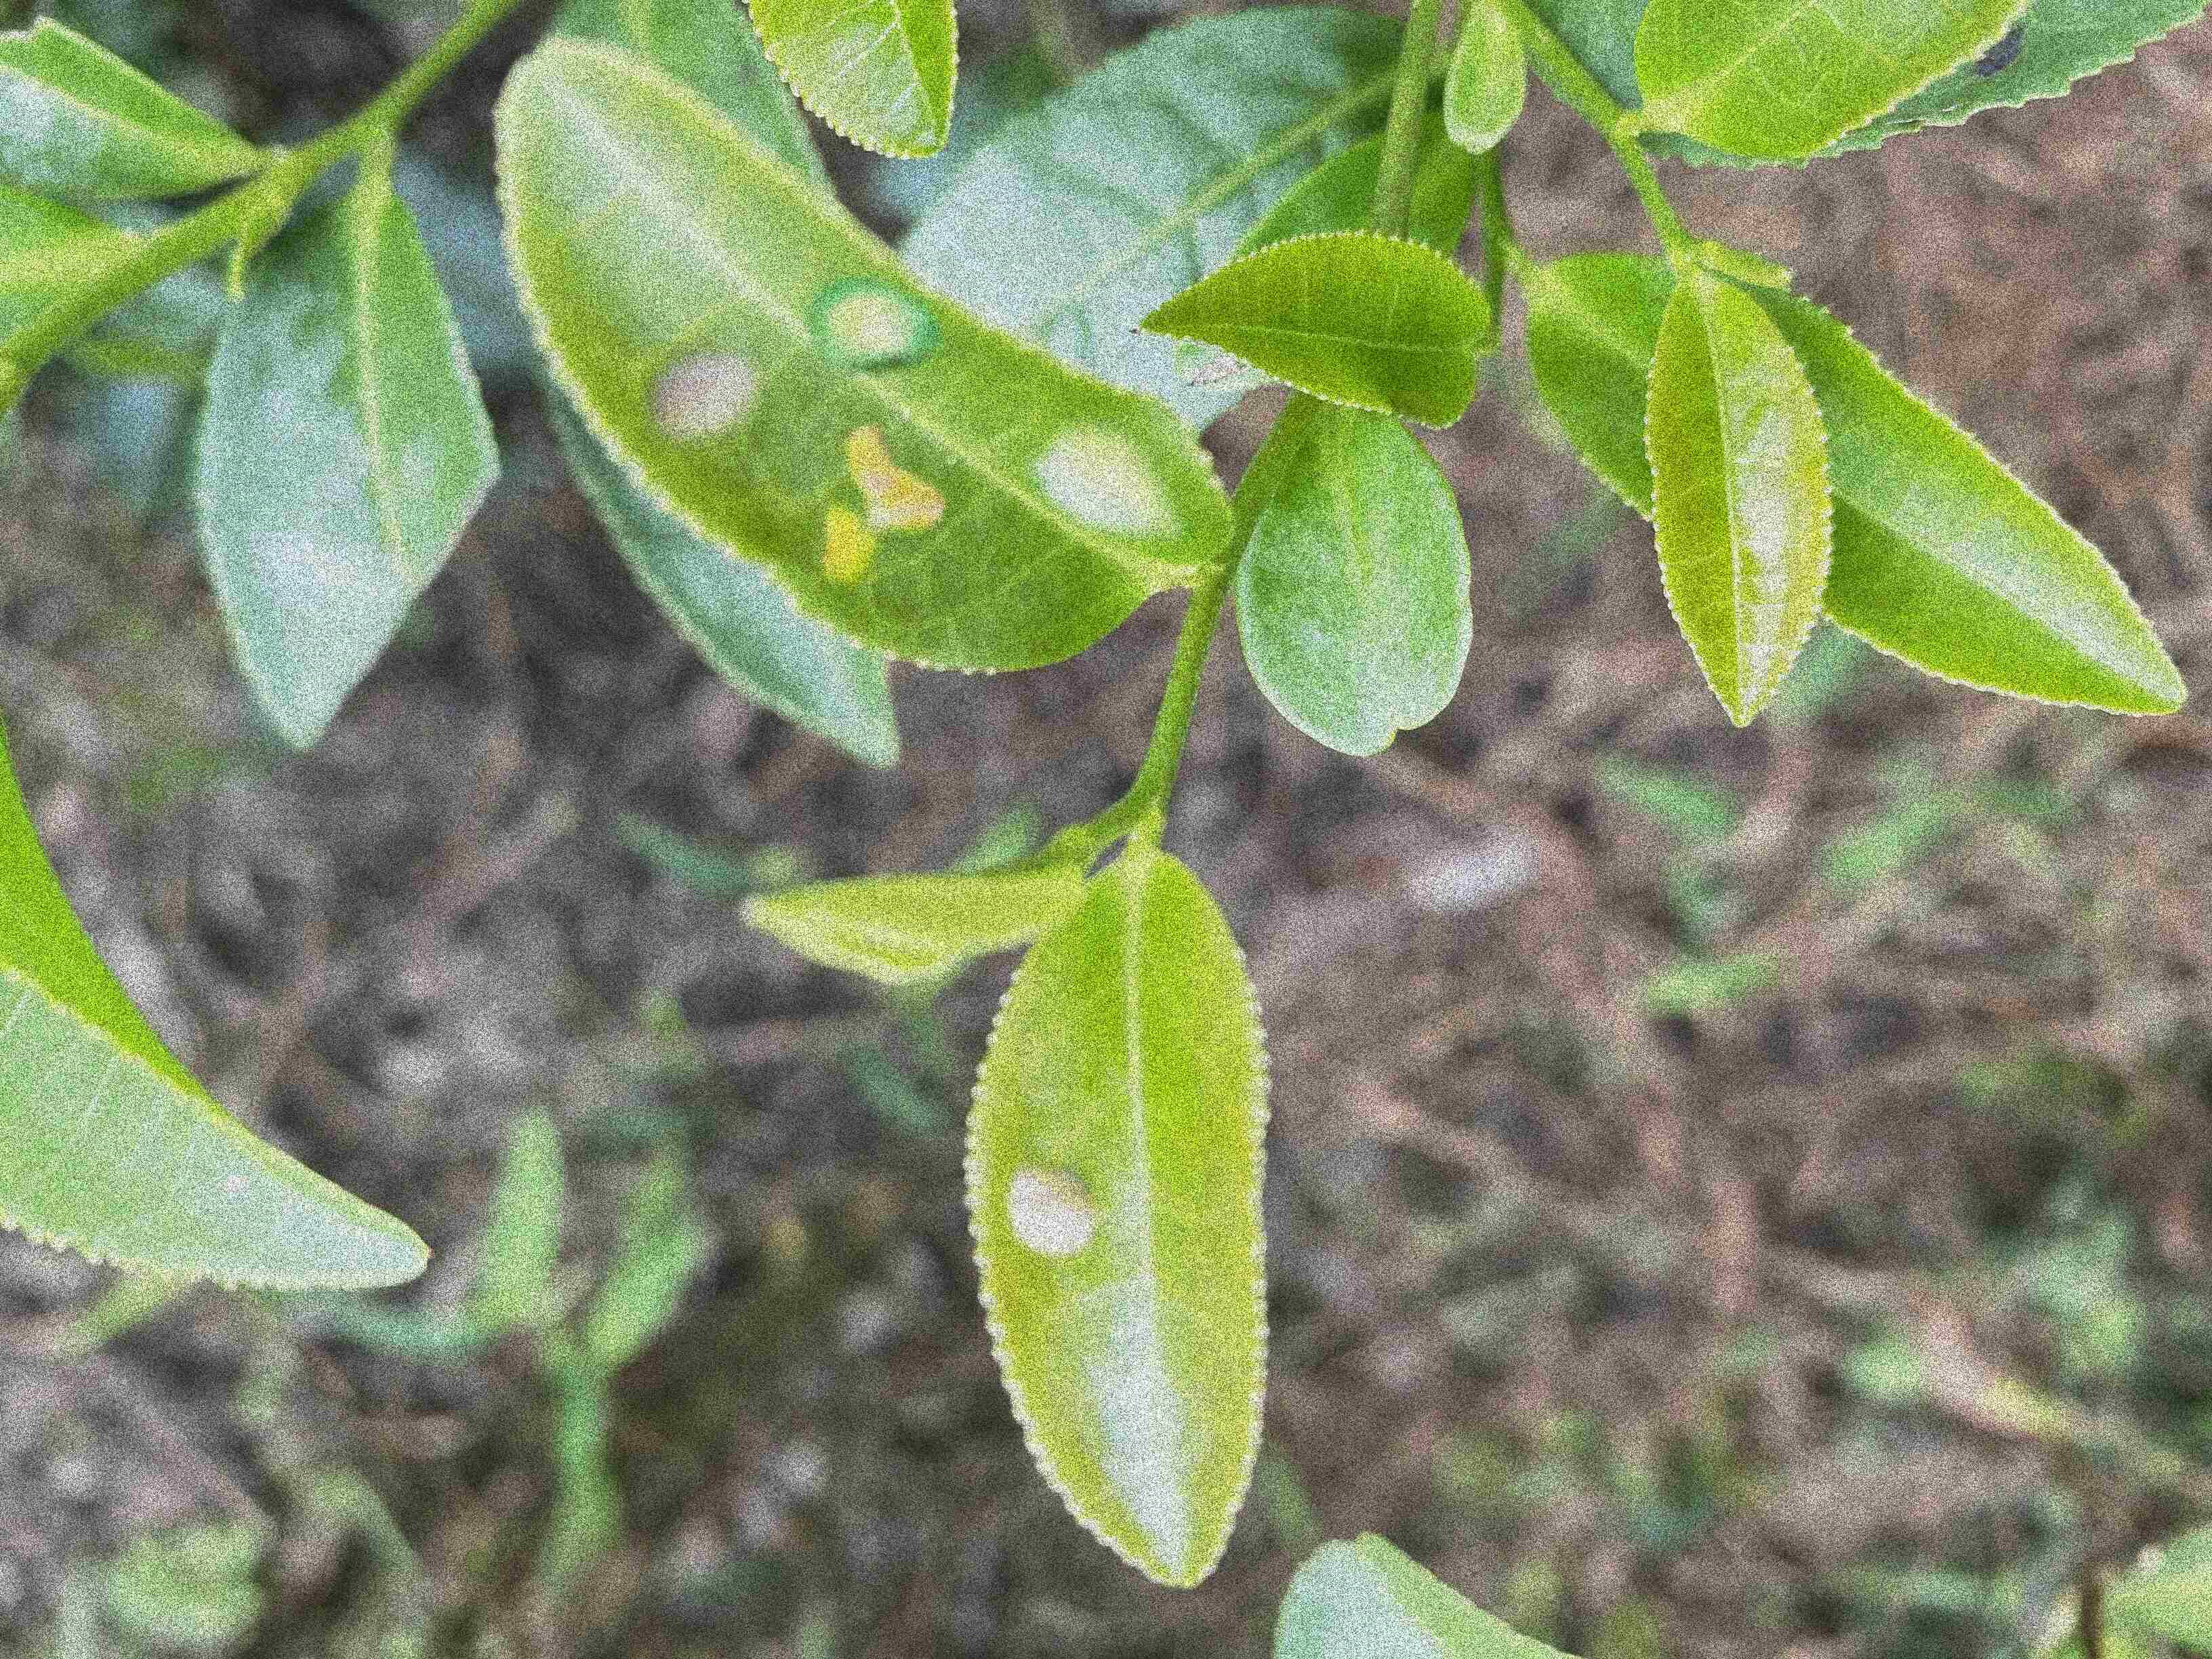chabing_high: (482, 40, 1237, 680)
chabing_low: (960, 847, 1273, 1591)
healthy: (1639, 275, 1834, 732), (1237, 403, 1477, 756), (1130, 228, 1494, 430)
